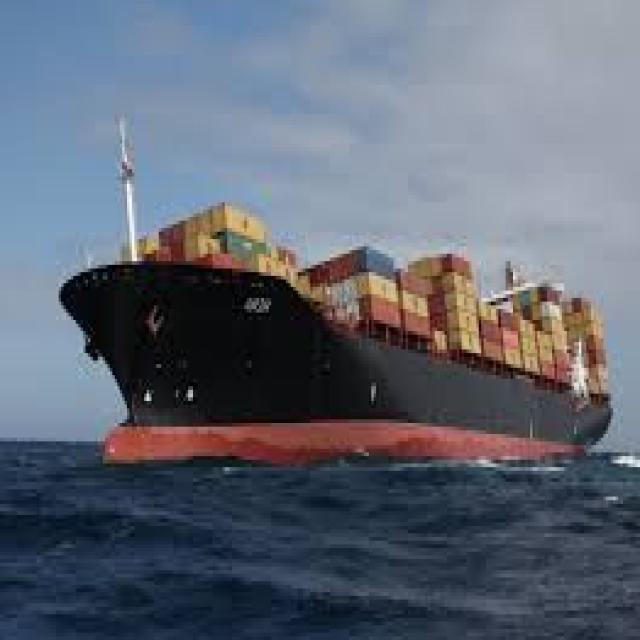cargoship: (59, 201, 620, 475)
